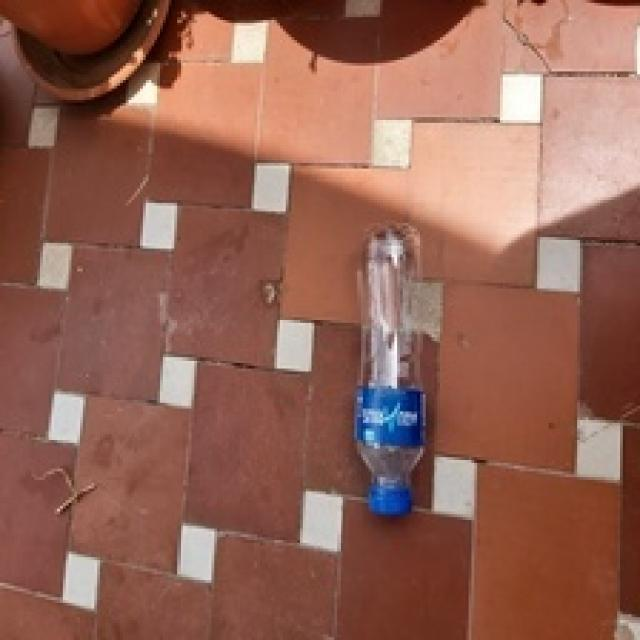Plastic: (350, 225, 428, 521)
